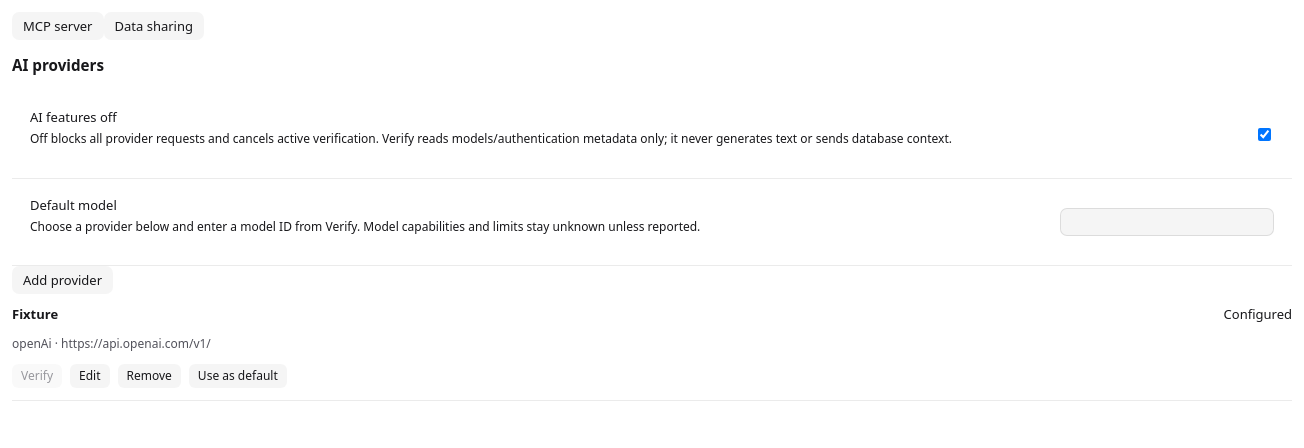
retains configuration when key deletion fails and rolls back failed permission writes
Click the button "Remove".
click(149, 376)  # box [118, 364, 181, 388]
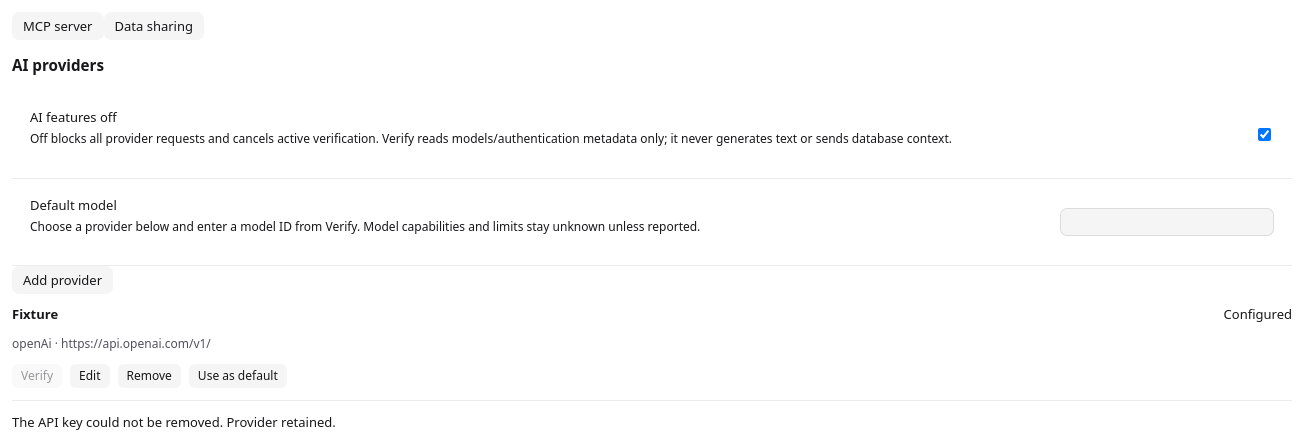
expect the element "Fixture" is shown: met, box [12, 294, 1292, 401]
expect the message "The API key could not be removed. Provider retained." is shown: met, box [12, 413, 336, 431]
Click the checkbox named "AI features off".
click(1264, 134)  # box [1258, 128, 1271, 141]
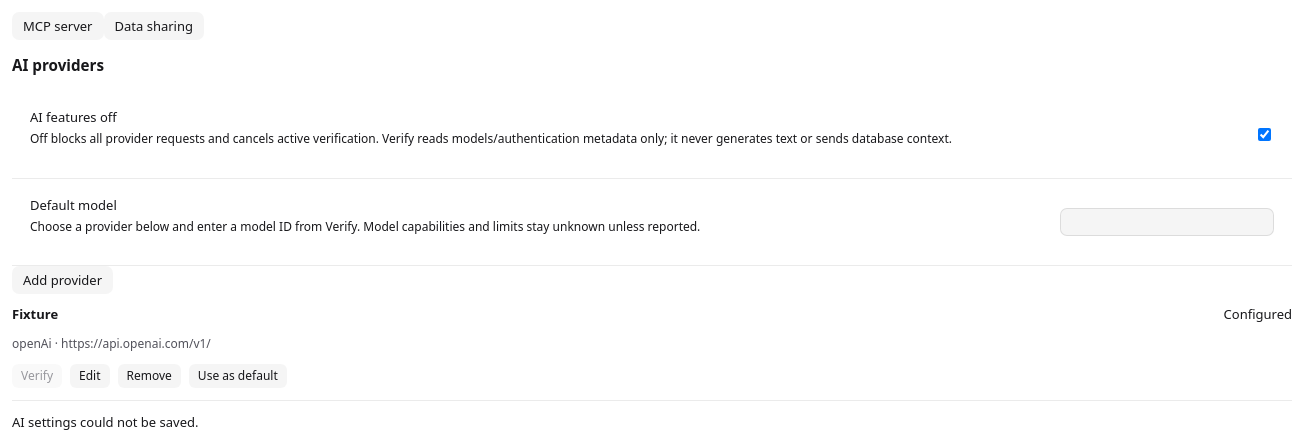
expect the message "AI settings could not be saved." is shown: met, box [12, 413, 198, 431]
